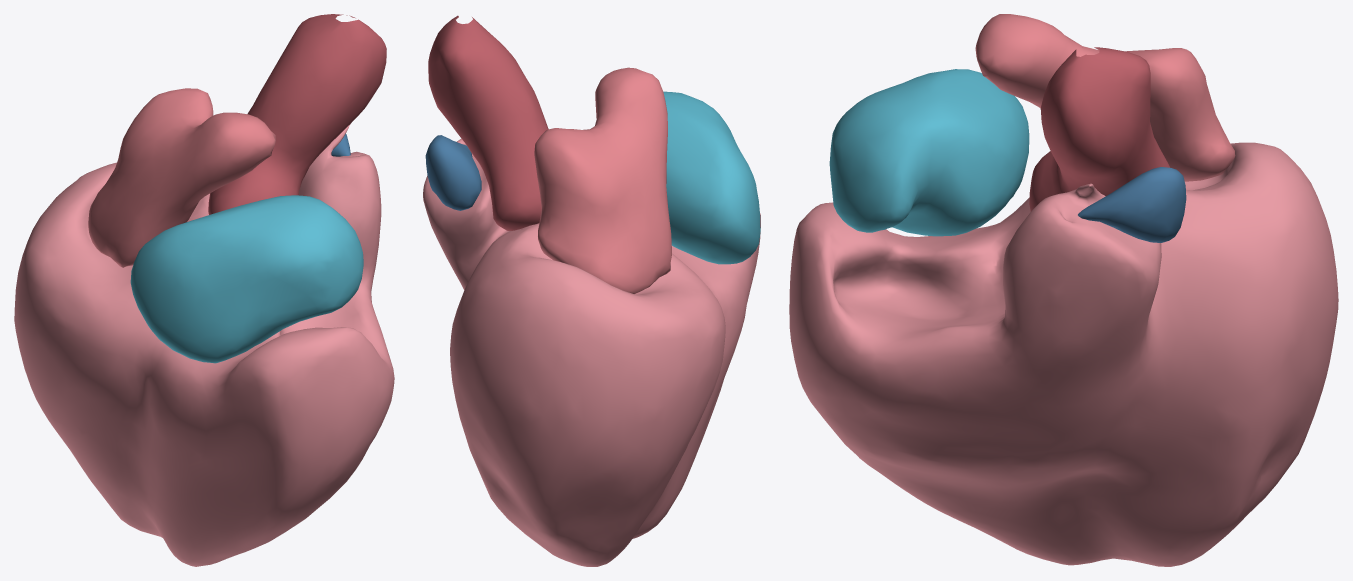
The model's file is frame_12.glb.
The picture shows the model from 3 angles, left to right: view 1: azimuth 30°, elevation 25°; view 2: azimuth 150°, elevation 25°; view 3: azimuth 270°, elevation 25°; orthographic projection. The views are drawn at different scales.
Parts seen in each view (by area): view 1: Renderer Node; view 2: Renderer Node; view 3: Renderer Node.
Boxes of the visible parts, bbox=[...] form: Renderer Node: bbox=[14, 14, 394, 566]; Renderer Node: bbox=[423, 15, 760, 566]; Renderer Node: bbox=[789, 14, 1338, 566].
Bounding box in the file's own units: 107 × 164 × 134.
